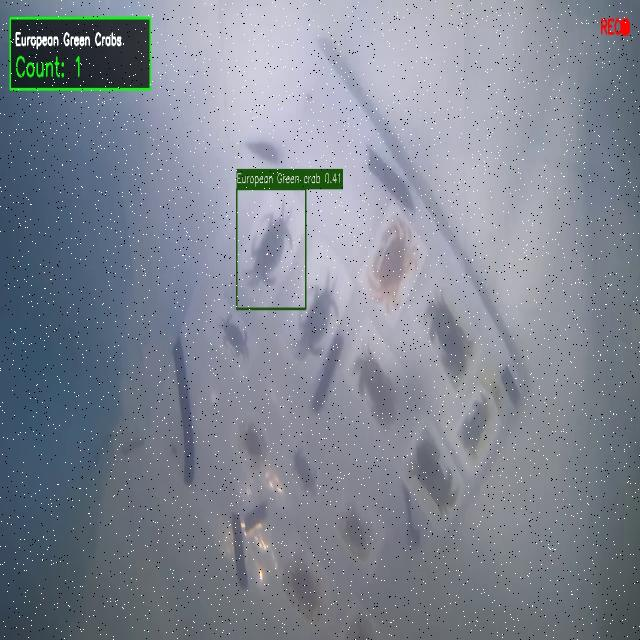European_Green_Crab: (235, 189, 305, 312), (284, 260, 348, 378), (217, 310, 253, 376), (290, 446, 326, 506)
